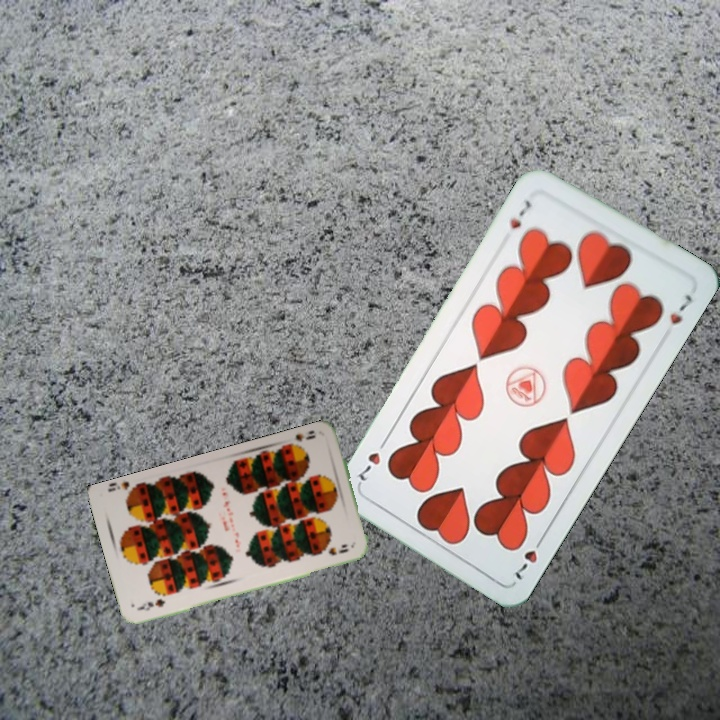H7: (509, 531, 547, 583), (505, 196, 535, 232)
S9: (284, 426, 318, 450), (134, 595, 168, 613)
